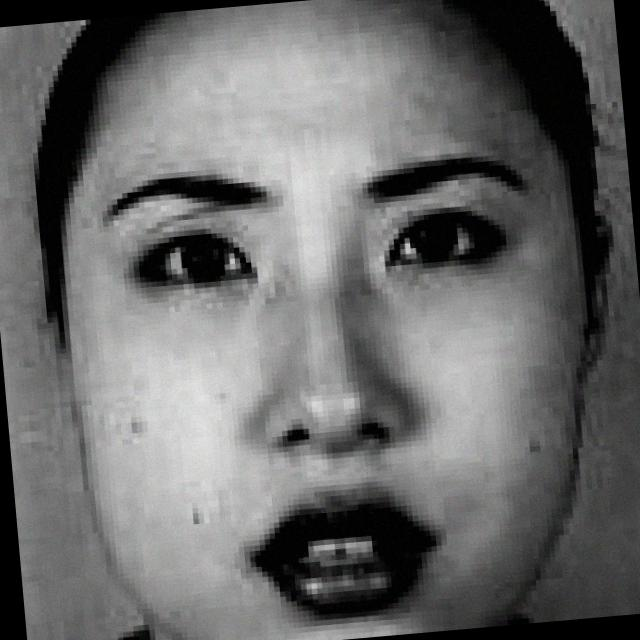fear: (54, 27, 585, 640)
